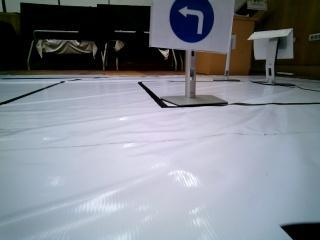left: (158, 0, 226, 53)
